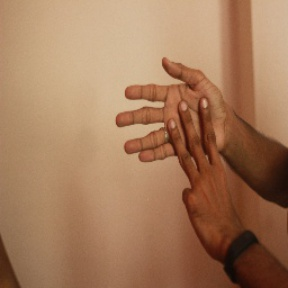M: (116, 55, 235, 201)
